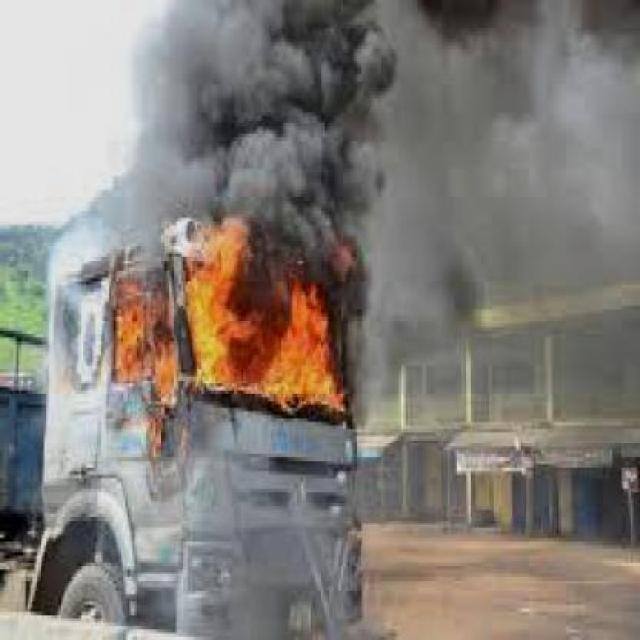Fire: (183, 210, 369, 408), (105, 257, 183, 394)
Smoke: (70, 0, 404, 226)
